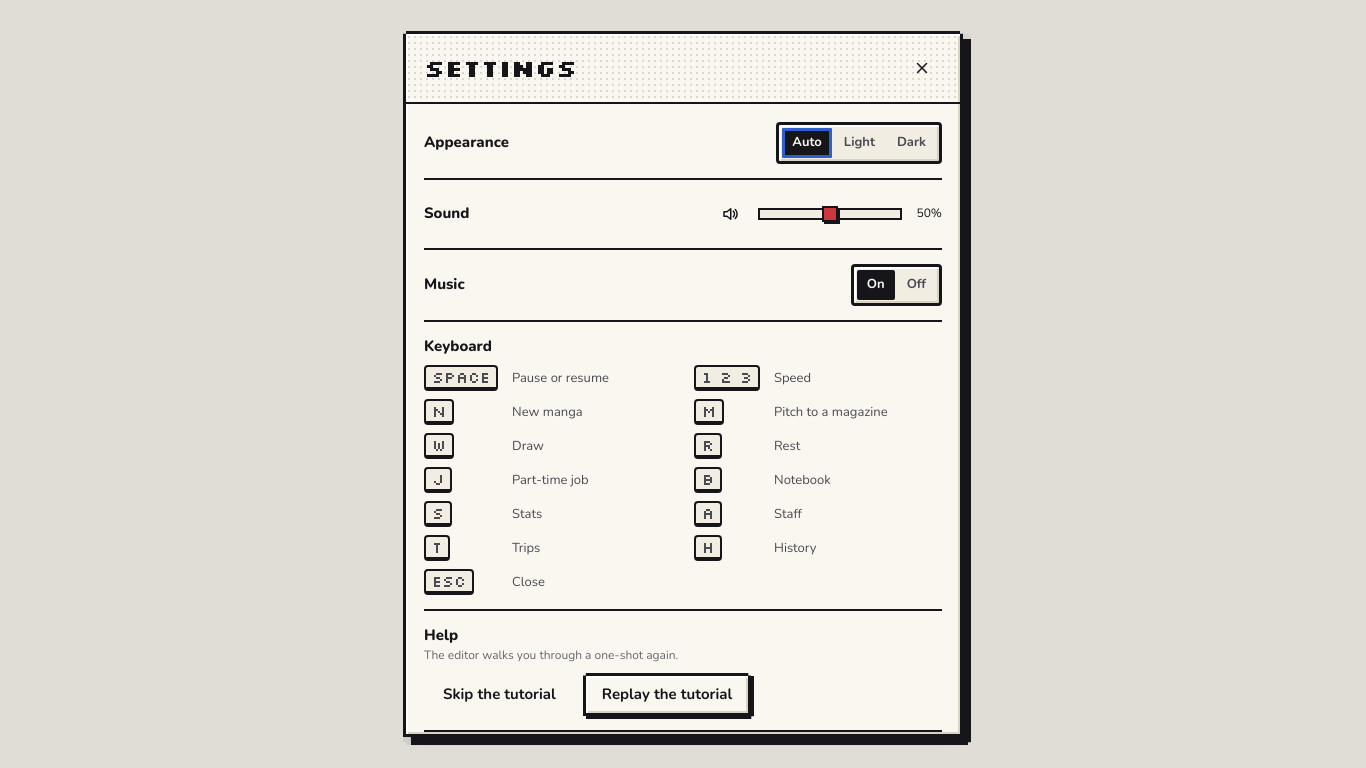
SettingsModal help › offers to skip the tutorial next to Replay while a step is open
Expected: the button "Replay the tutorial" is shown, left=583, top=673, right=751, bottom=716
Click the button "Skip the tutorial". click: (499, 694)
box: left=424, top=673, right=575, bottom=716
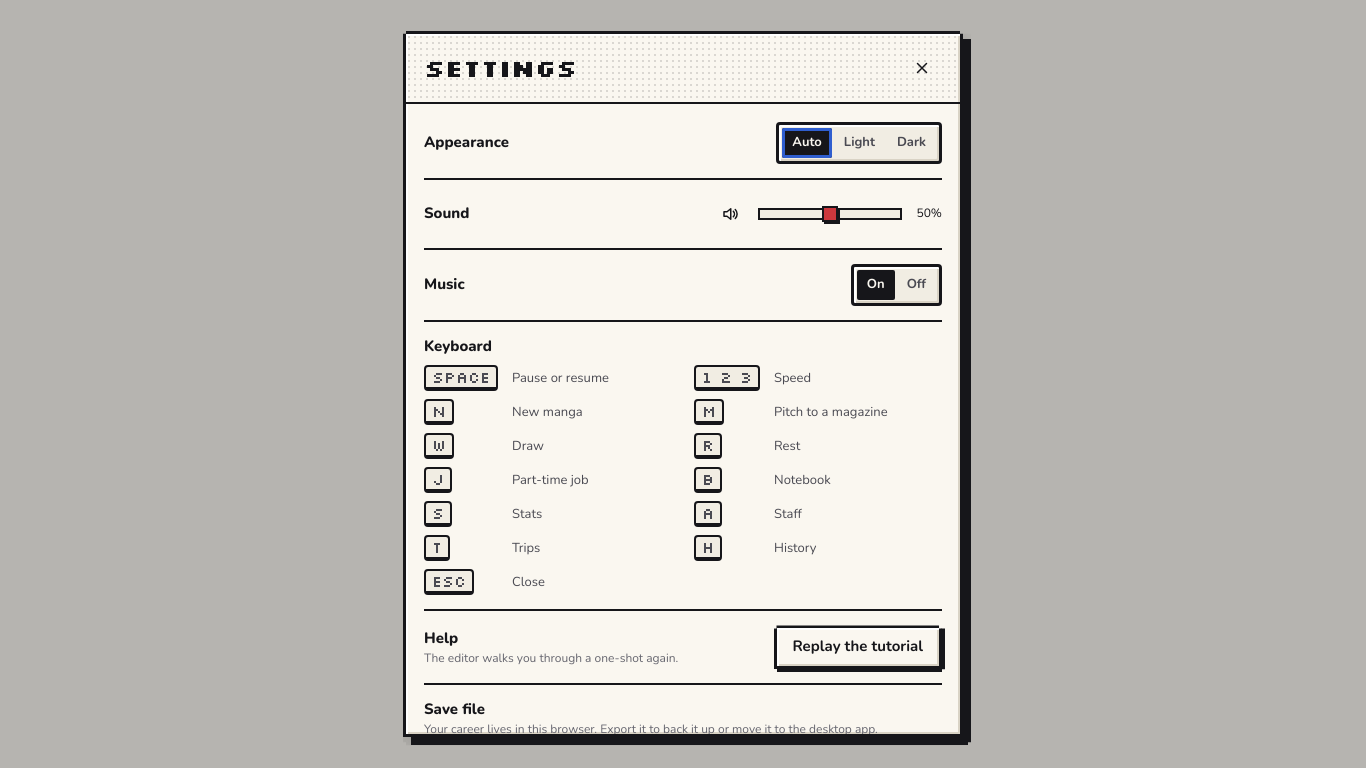
Expected: the button "Skip the tutorial" is gone
